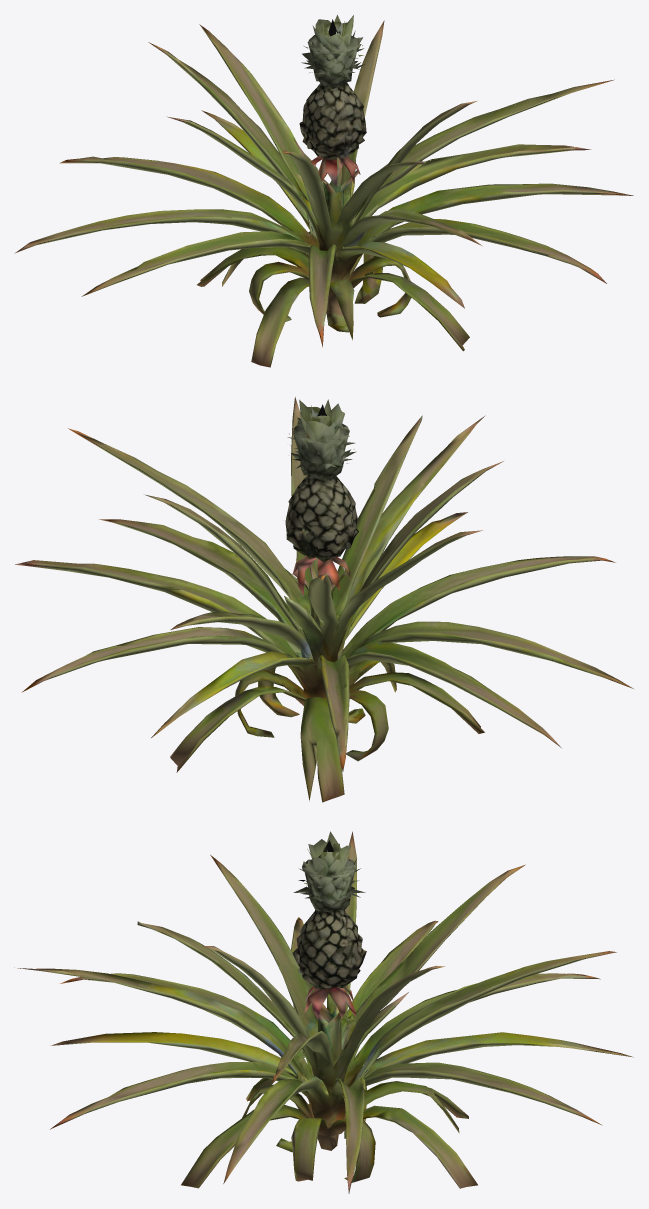
File: pineapplplant3d.fbx
The picture shows the model from 3 angles, top to bottom: view 1: azimuth 30°, elevation 25°; view 2: azimuth 150°, elevation 25°; view 3: azimuth 270°, elevation 25°; orthographic projection. The views are drawn at different scales.
Parts seen in each view (by area): view 1: tripo_node_6845a835; view 2: tripo_node_6845a835; view 3: tripo_node_6845a835.
Part boxes in pixels (x1,y1,x2,y2): tripo_node_6845a835: (14,15,633,367); tripo_node_6845a835: (15,397,633,802); tripo_node_6845a835: (14,831,633,1193).
Bounding box in the file's own units: 1 × 0.5368 × 0.9459.
Materials: 1 (1 with a texture image).
